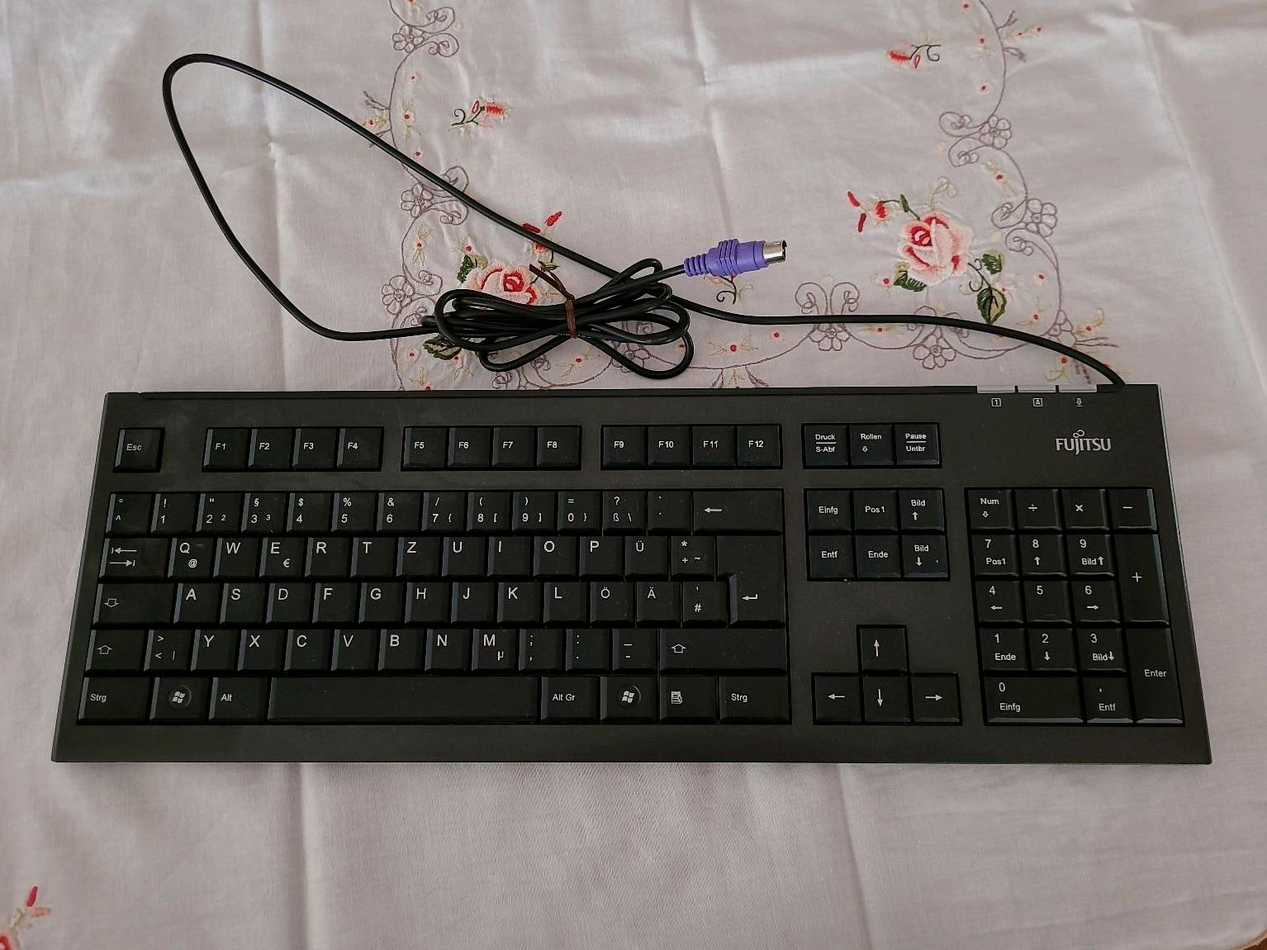0: (554, 486, 597, 530)
1: (151, 489, 194, 532)
2: (197, 488, 240, 531)
3: (241, 488, 284, 531)
4: (287, 488, 329, 530)
5: (332, 488, 373, 530)
6: (376, 487, 419, 530)
7: (421, 487, 463, 530)
8: (466, 487, 507, 530)
9: (510, 487, 552, 530)
a: (176, 580, 216, 621)
accent: (646, 486, 687, 529)
ae: (634, 578, 676, 621)
alt-left: (208, 673, 262, 719)
altgr-right: (539, 672, 595, 718)
b: (378, 625, 420, 668)
c: (285, 625, 326, 668)
caret: (106, 489, 149, 532)
comma: (517, 625, 559, 669)
d: (267, 579, 308, 620)
del: (689, 485, 781, 529)
e: (260, 533, 301, 575)
enter: (716, 531, 783, 623)
f: (314, 579, 354, 620)
g: (359, 578, 399, 620)
h: (406, 579, 445, 620)
hash: (680, 578, 724, 621)
i: (486, 533, 527, 573)
j: (451, 578, 491, 620)
k: (497, 578, 538, 620)
keyboard: (48, 378, 1215, 769)
l: (543, 578, 582, 620)
less: (145, 625, 189, 669)
m: (472, 625, 512, 669)
minus: (611, 625, 652, 667)
n: (427, 625, 466, 668)
o: (531, 532, 572, 574)
oe: (587, 577, 629, 620)
p: (577, 532, 619, 573)
plus: (668, 531, 711, 574)
point: (564, 625, 606, 667)
q: (168, 534, 211, 576)
r: (306, 534, 347, 575)
s: (221, 579, 262, 621)
shift-left: (84, 626, 141, 670)
shift-lock: (93, 580, 173, 623)
shift-right: (658, 625, 784, 667)
space: (267, 672, 534, 719)
ss: (600, 486, 642, 529)
strg-left: (75, 673, 148, 720)
strg-right: (716, 672, 788, 719)
t: (352, 534, 391, 574)
tab: (99, 534, 165, 577)
u: (441, 533, 481, 574)
ue: (622, 531, 664, 574)
v: (332, 625, 373, 668)
w: (216, 534, 256, 576)
x: (240, 625, 279, 668)
y: (192, 625, 233, 668)
z: (397, 533, 436, 574)
